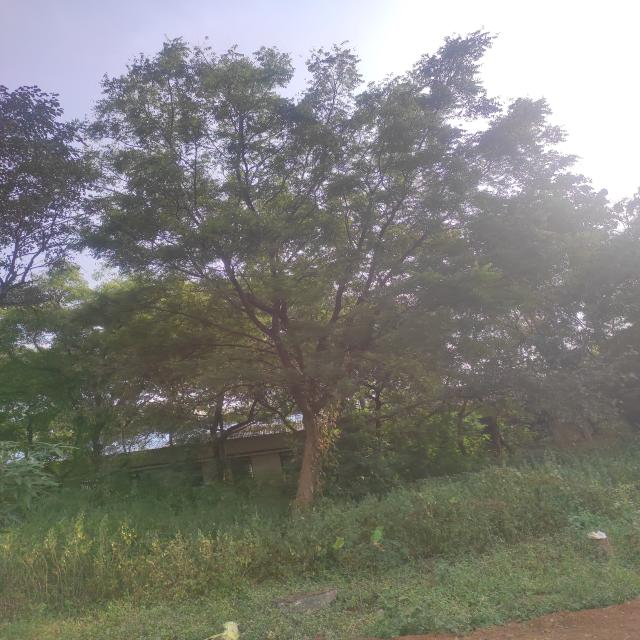Neem Tree: (70, 30, 587, 405)
